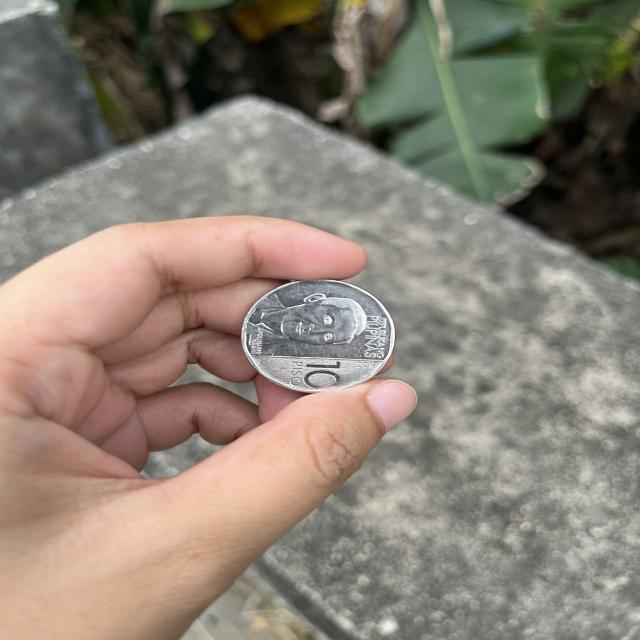10_New_Front: (284, 358, 354, 388)
